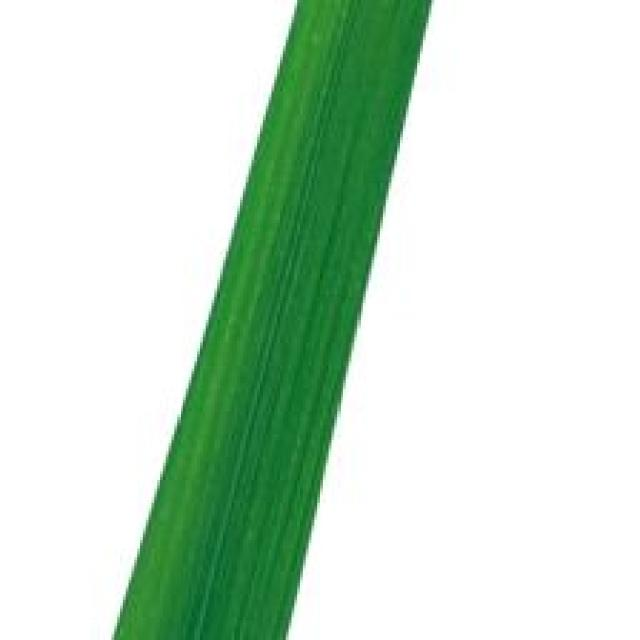Rice___Healthy_Rice_Plant: (113, 0, 434, 637)
